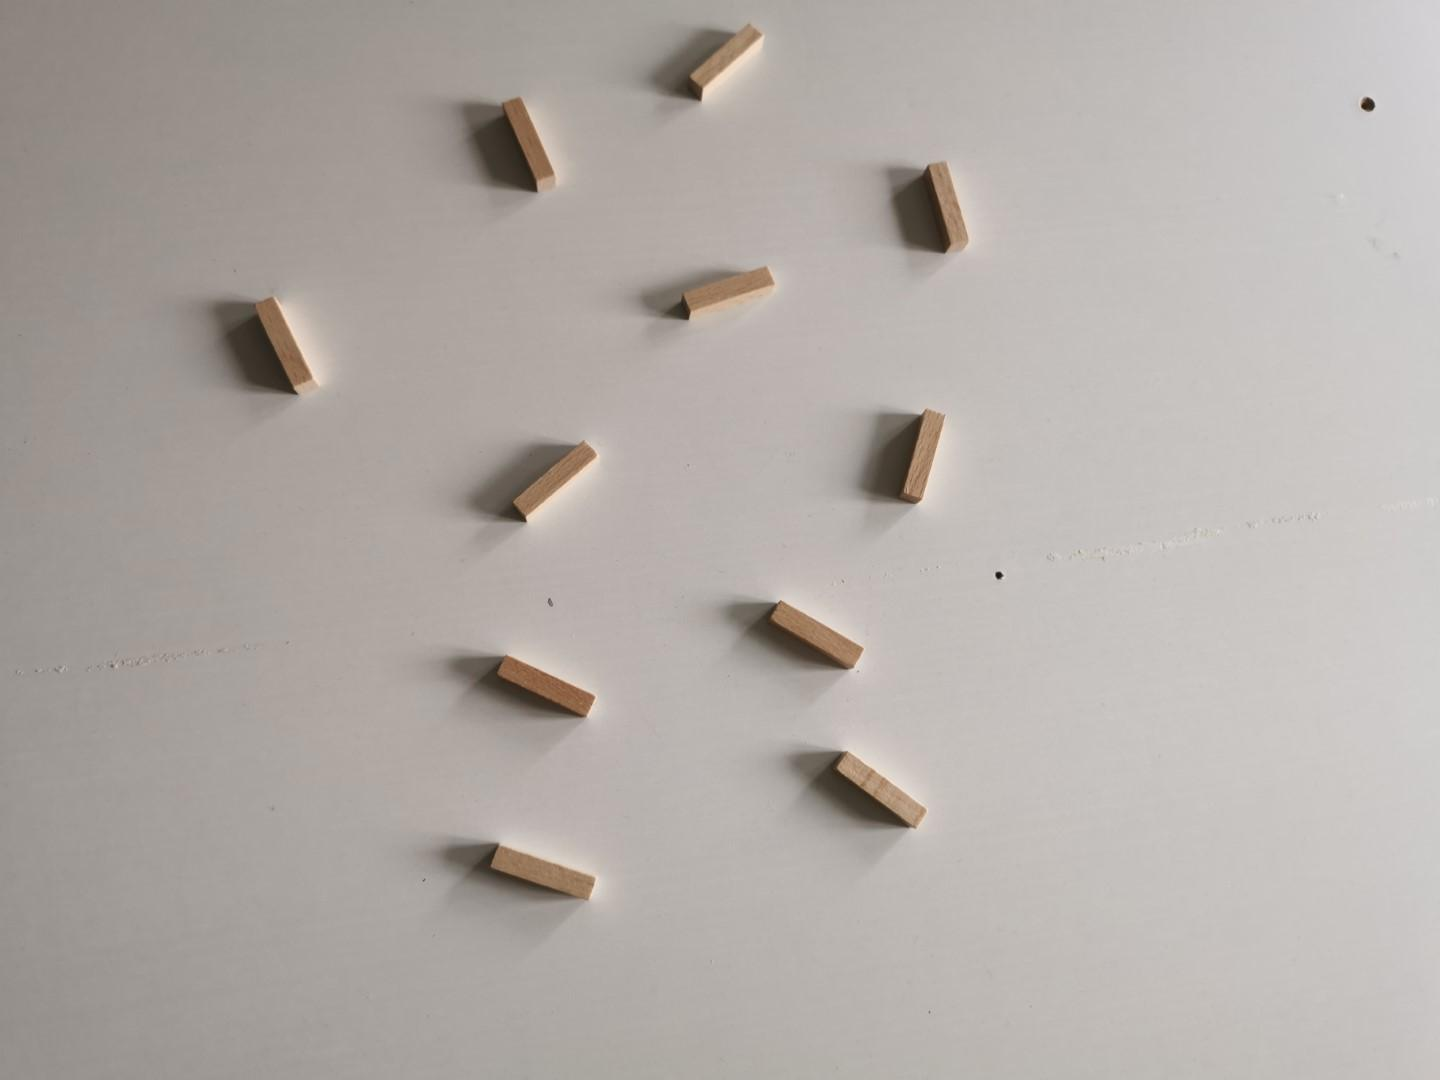jenga: (836, 752, 927, 828), (514, 440, 598, 517), (771, 602, 864, 669), (254, 296, 317, 394), (497, 656, 595, 717), (491, 846, 596, 901), (689, 22, 764, 98), (502, 96, 554, 189), (683, 265, 776, 317), (923, 161, 969, 251), (901, 408, 946, 503)
